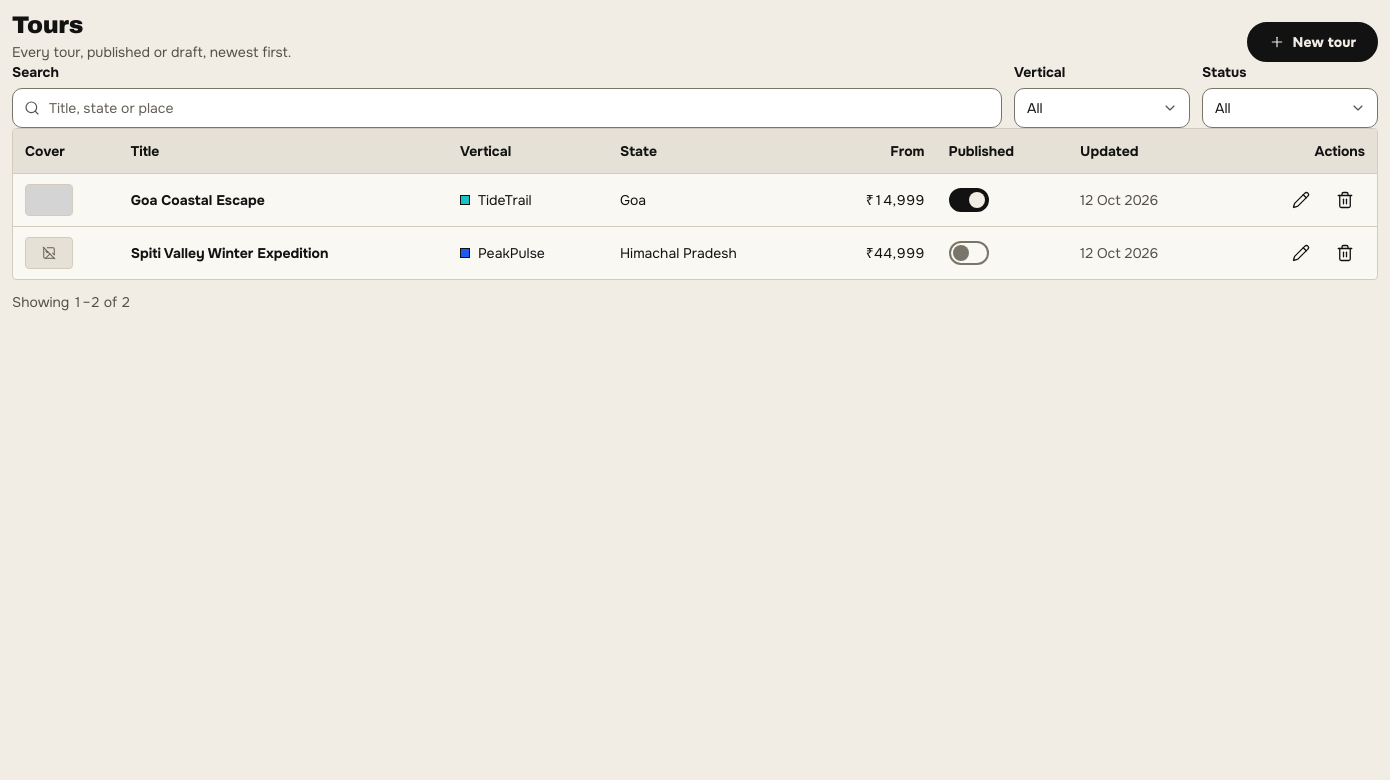
Test: ToursPage › says why a publish change failed, in our words
Expected: the table named "Tours" is shown, top-left (13, 129), bottom-right (1377, 279)
Expected: the text "Goa Coastal Escape" is shown, top-left (119, 174), bottom-right (448, 227)
Click the switch named "Published: Spiti Valley Winter Expedition" at (968, 253), box top-left (948, 233), bottom-right (988, 273)
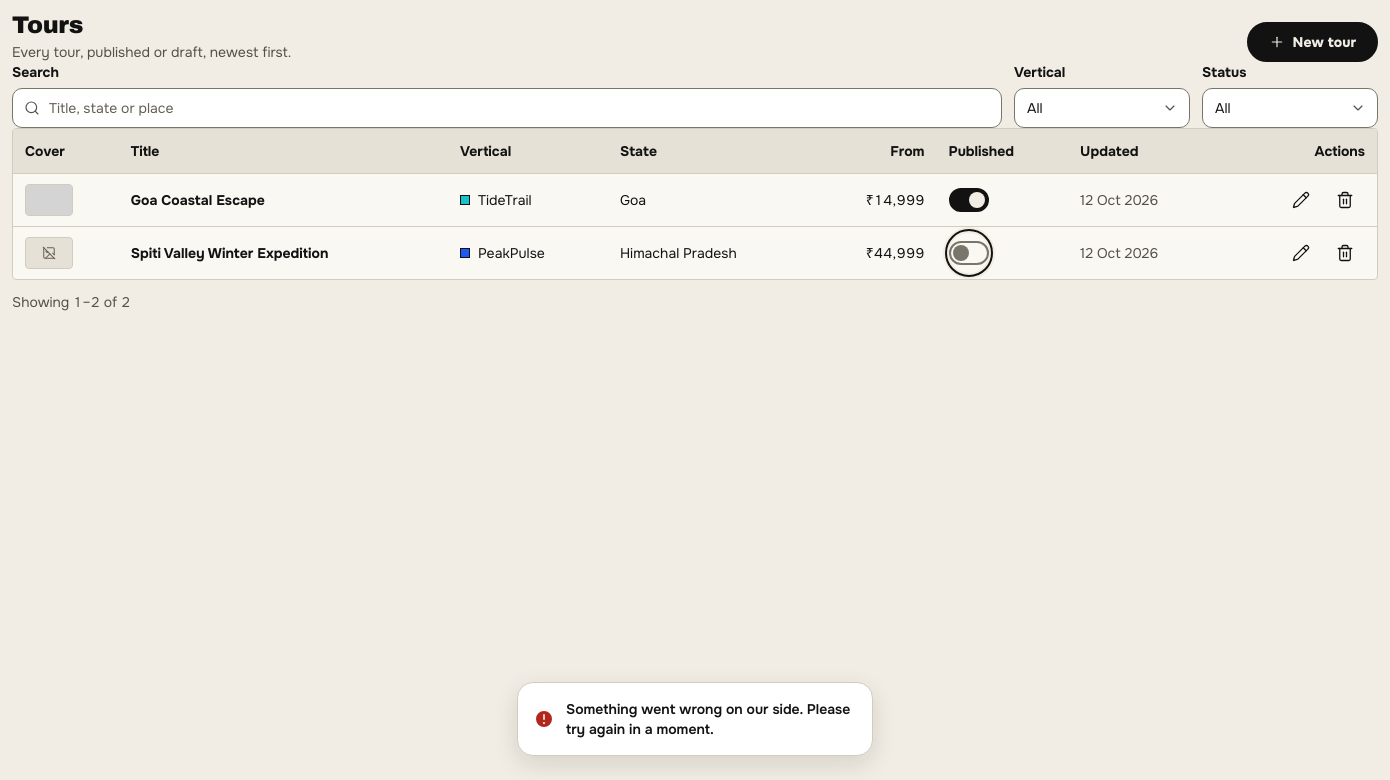
Expected: the text "Something went wrong on our side. Please try again in a moment." is shown, top-left (566, 699), bottom-right (856, 739)
